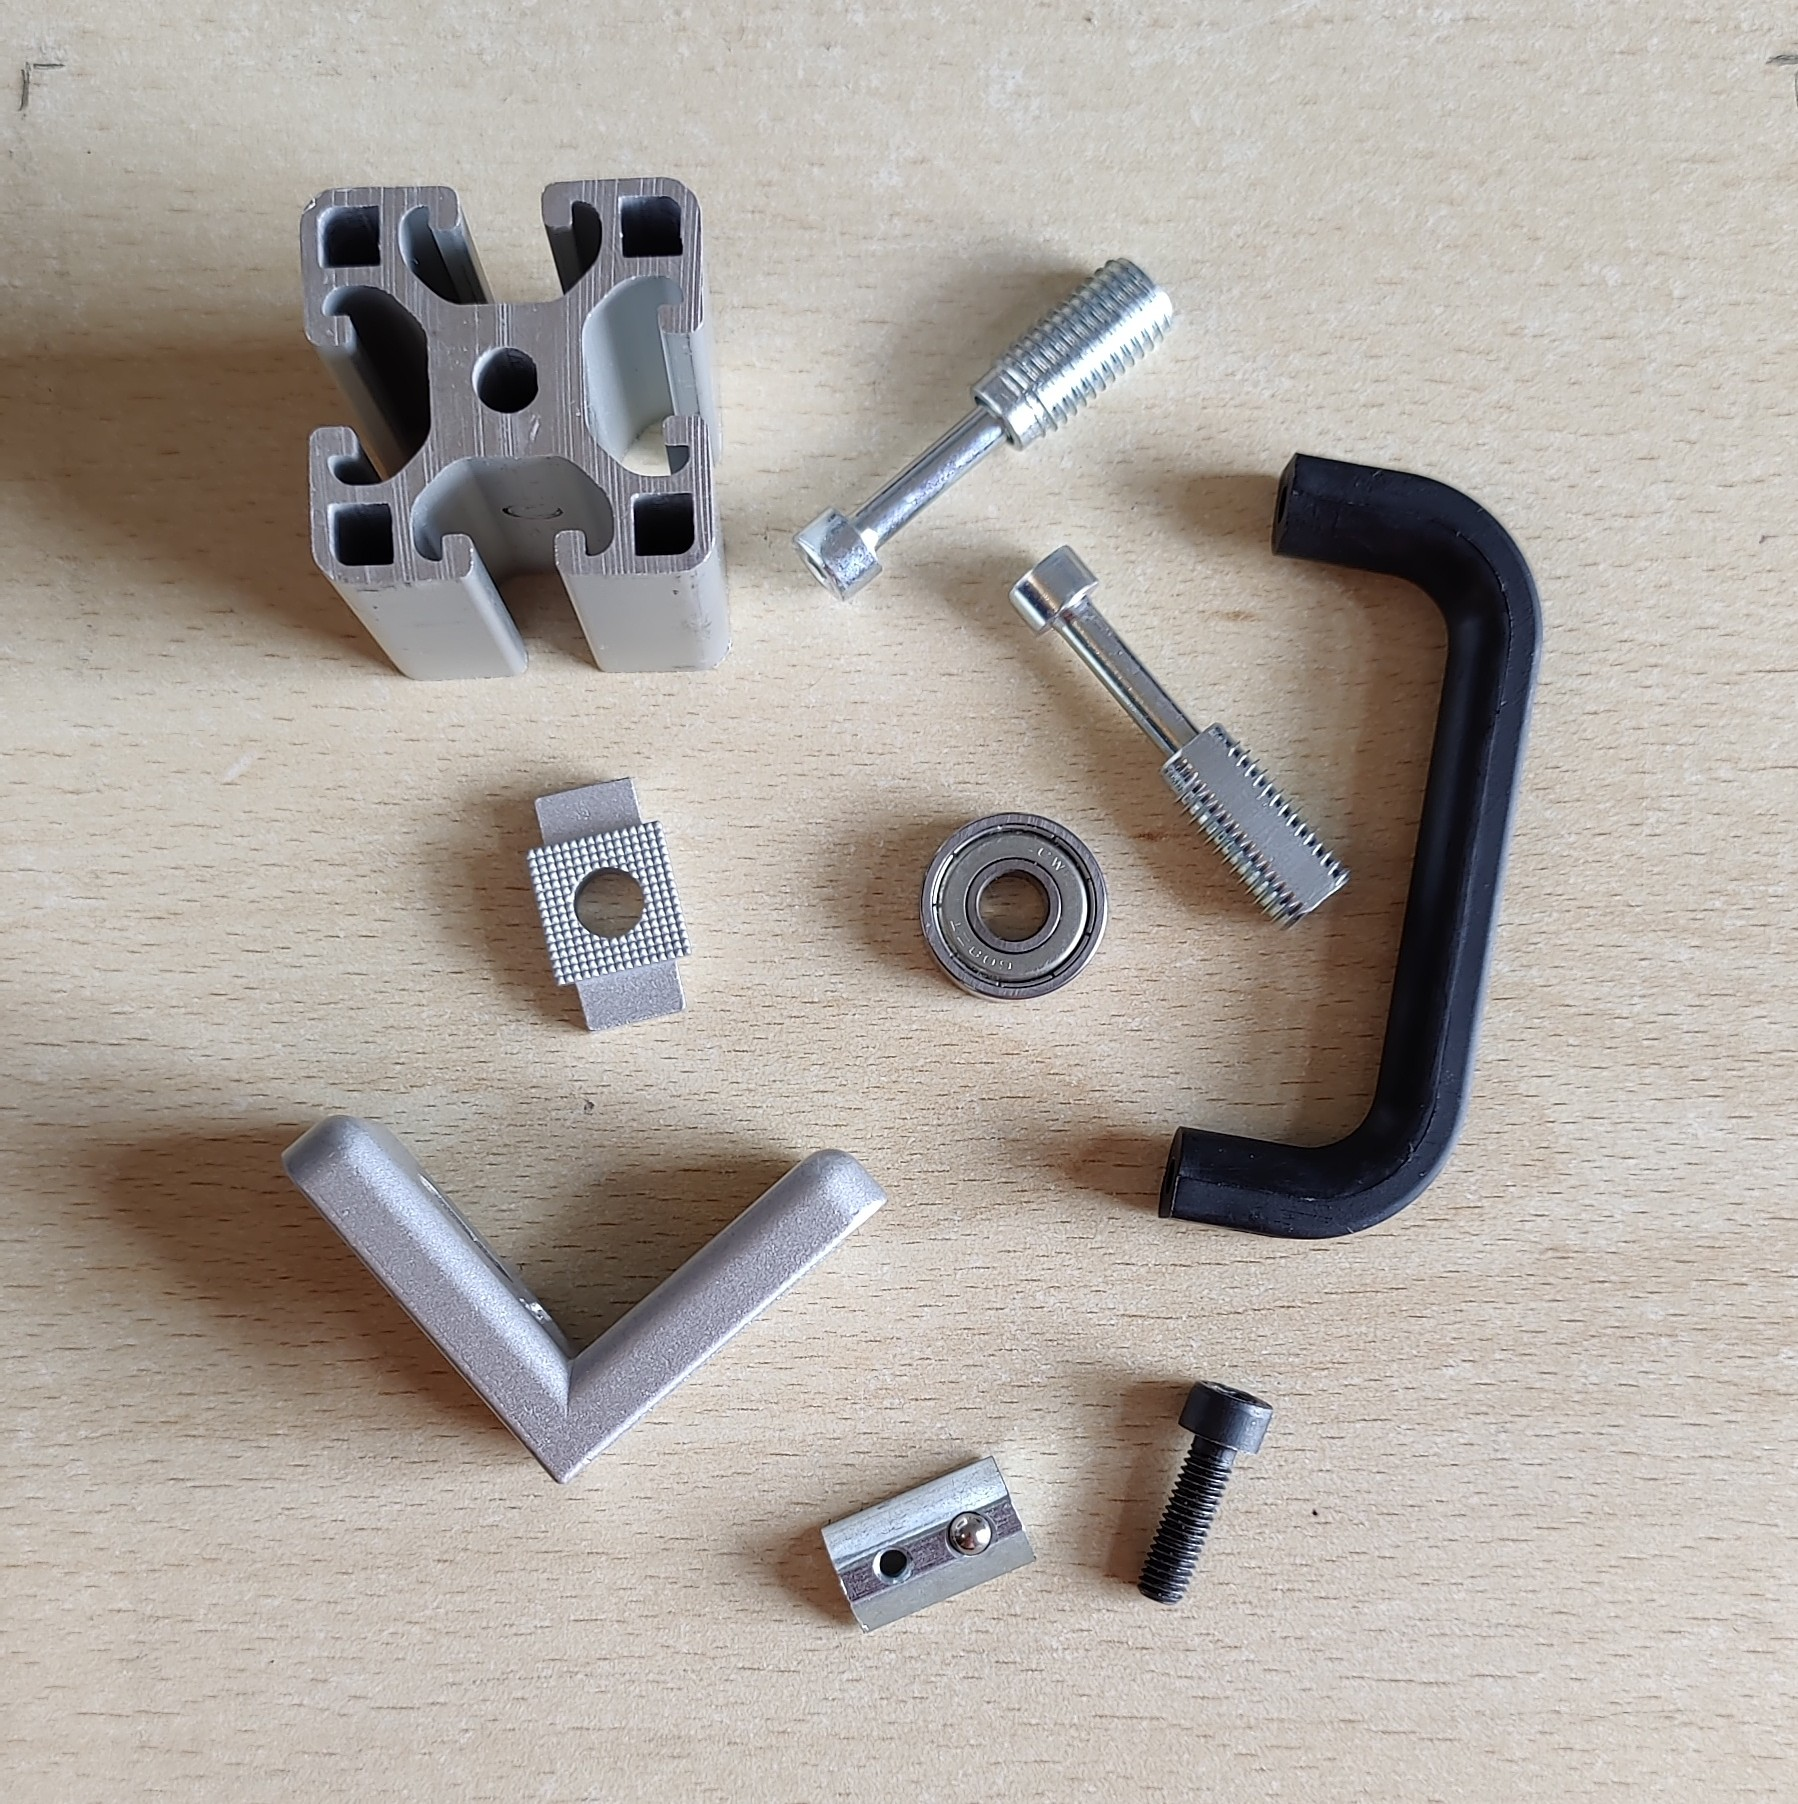Aluminium Extension: (298, 174, 729, 685)
Ball Bearing: (915, 810, 1111, 1006)
Multiwinkel: (277, 1113, 887, 1486)
Pull Handle: (1156, 449, 1544, 1243)
Shoulder Socket Head Cap Screw: (1004, 542, 1357, 937), (789, 253, 1181, 604)
Socket Head Cap Screw: (817, 1457, 1041, 1636), (1134, 1378, 1276, 1608)
T Nut Square: (525, 774, 696, 1037)
